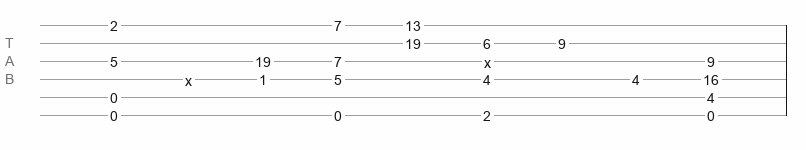0: (110, 90, 118, 100), (110, 108, 118, 118), (334, 108, 342, 118), (707, 108, 715, 118)
1: (259, 72, 267, 82)
13: (405, 18, 421, 28)
16: (703, 72, 719, 82)
19: (255, 54, 271, 64), (405, 36, 421, 46)
2: (110, 18, 118, 28), (483, 108, 491, 118)
4: (483, 72, 491, 82), (632, 72, 640, 82), (707, 90, 715, 100)
5: (110, 54, 118, 64), (334, 72, 342, 82)
6: (483, 36, 491, 46)
7: (334, 18, 342, 28), (334, 54, 342, 64)
9: (558, 36, 566, 46), (707, 54, 715, 64)
x: (185, 73, 192, 81), (484, 55, 491, 63)
